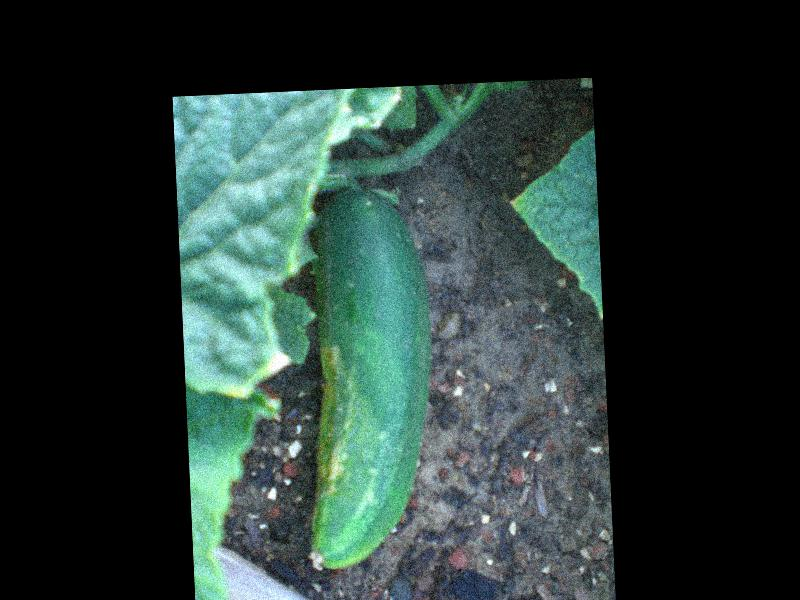Cucumber: (293, 187, 440, 570)
